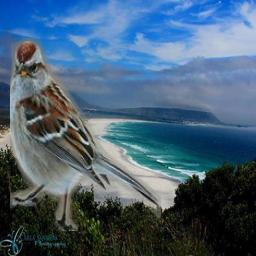Sparrow: (10, 38, 161, 231)
